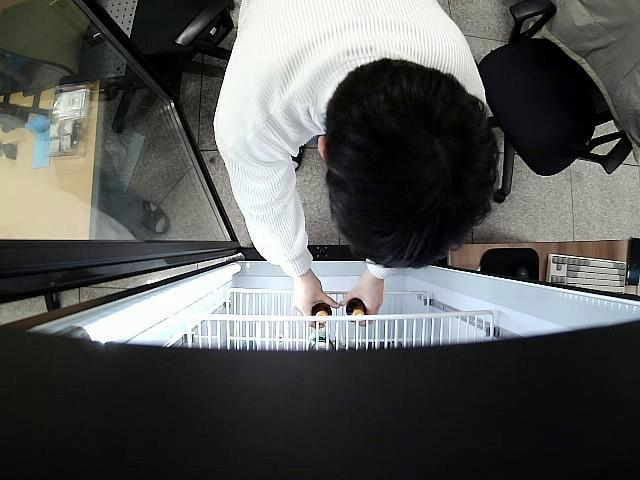17_vita500: (307, 301, 333, 326), (347, 297, 370, 322)
